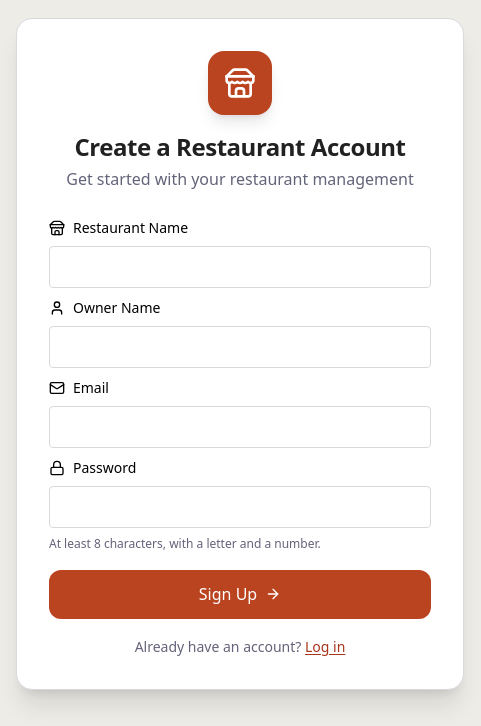
Test: forms that set a password (SEC-08) › the owner sign-up refuses it too
The image size is (481, 726).
Type "Bistro" into the field labelled "Restaurant Name" at (240, 267), box [49,246,431,288]
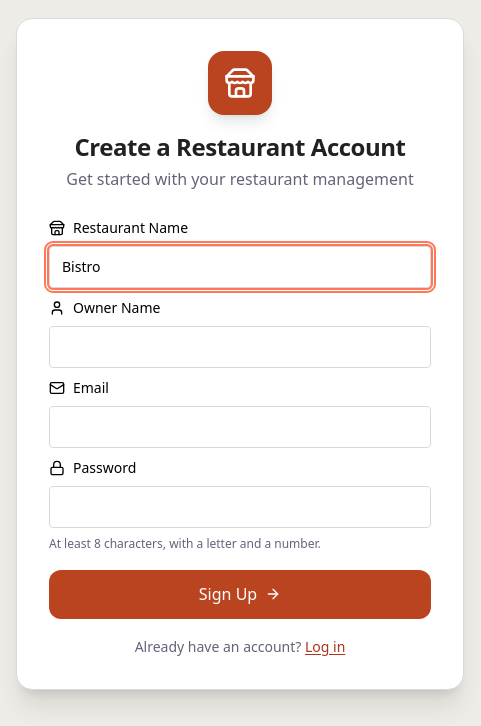
Type "Ory" into the field labelled "Owner Name" at (240, 347), box [49,326,431,368]
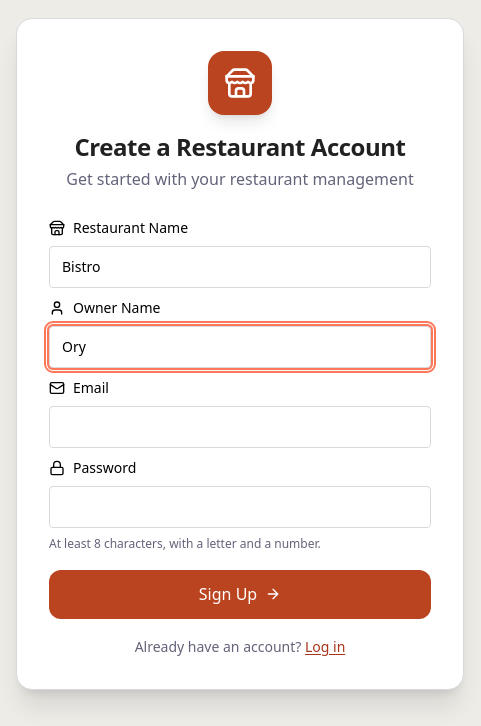
Type "ory@x.test" into the field labelled "Email" at (240, 427), box [49,406,431,448]
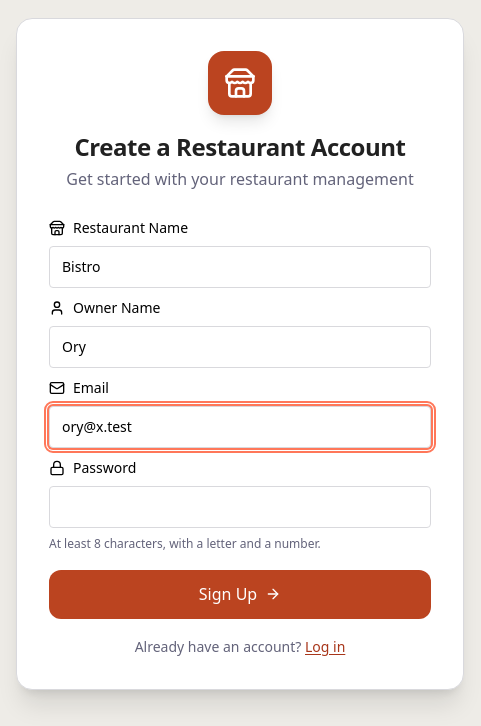
Type "abc1234" into the password field labelled "Password" at (240, 507), box [49,486,431,528]
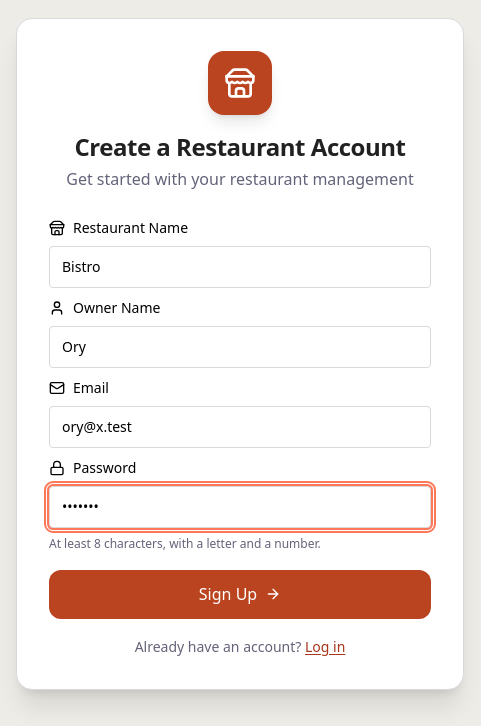
Click the button "Sign Up" at (240, 594), box [49,570,431,619]
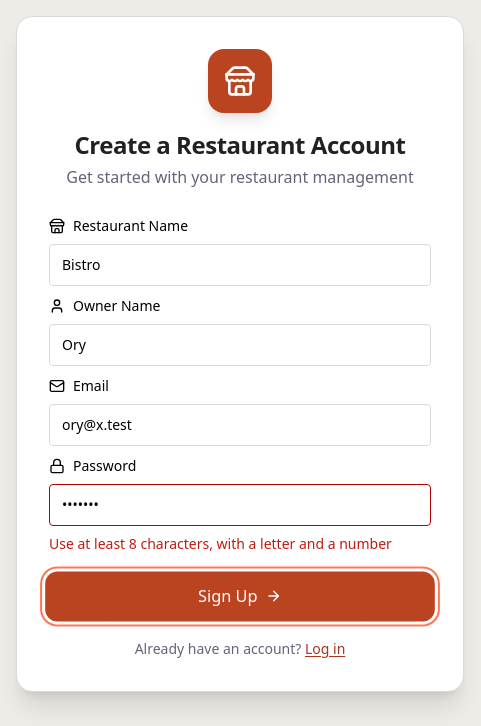
Expected: the text "Use at least 8 characters, with a letter and a number" is shown, [49,534,431,554]
